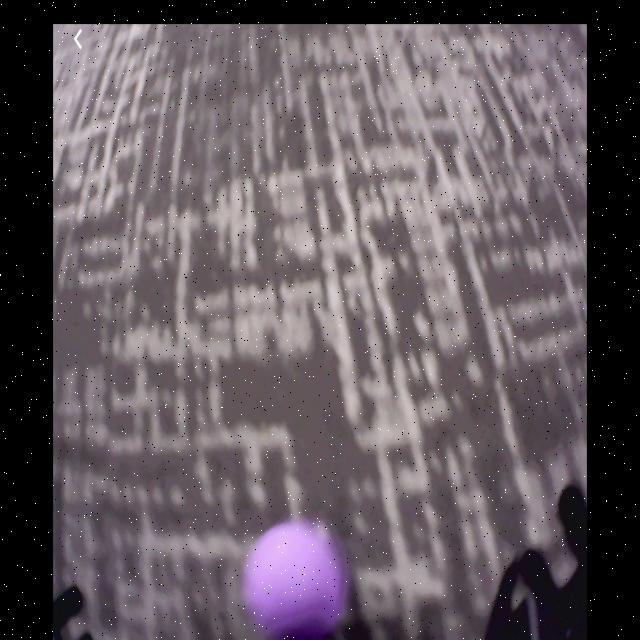ball: (244, 518, 347, 640)
